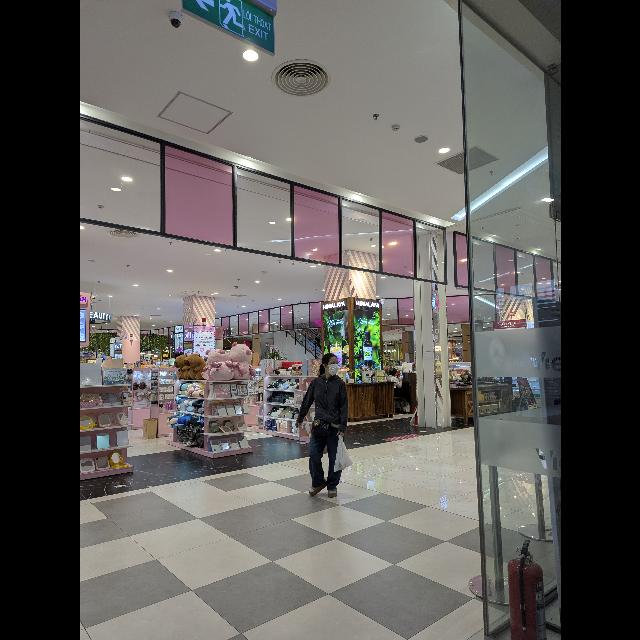exit: (178, 2, 278, 58)
